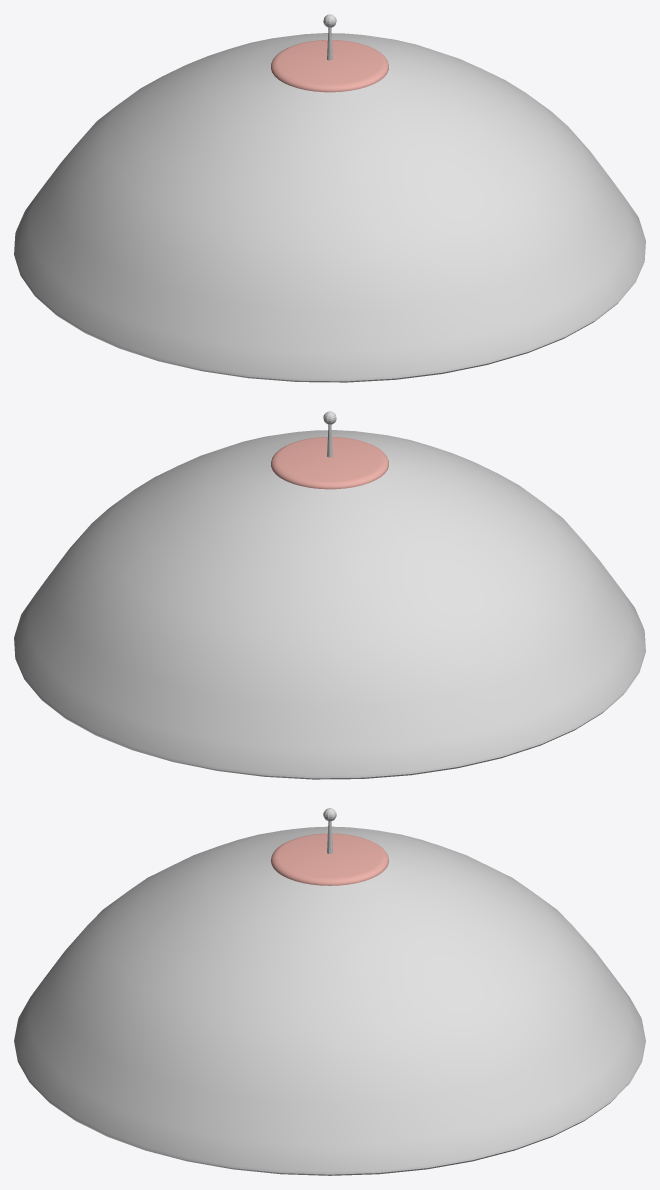
File: UFOTop.glb
3 renders of one model, top to bottom at view 1: azimuth 30°, elevation 25°; view 2: azimuth 150°, elevation 25°; view 3: azimuth 270°, elevation 25°, orthographic.
Visible parts, largest first — view 1: Sphere.010; view 2: Sphere.010; view 3: Sphere.010.
Part boxes in pixels (x1,y1,x2,y2): Sphere.010: (14,14,645,382); Sphere.010: (14,411,645,779); Sphere.010: (14,808,645,1175).
Bounding box in the file's own units: 0.6145 × 0.2522 × 0.6145.
